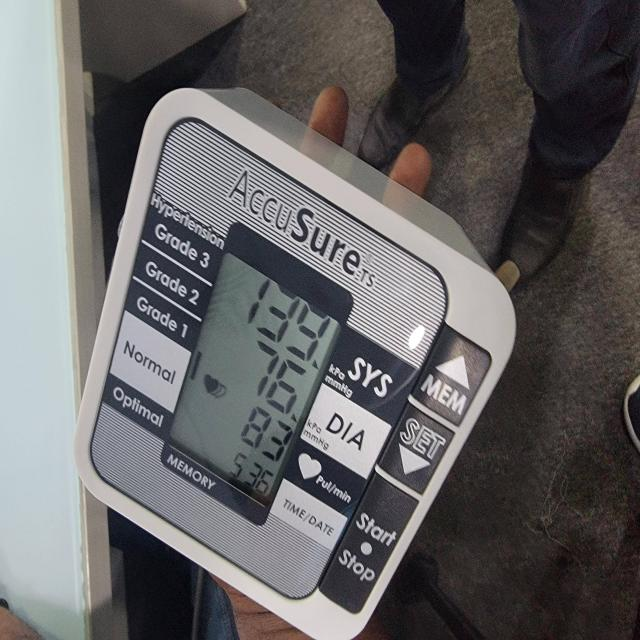bp: (74, 91, 511, 640)
